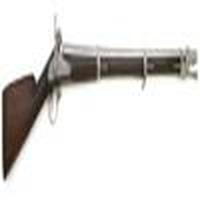gun: (3, 34, 195, 179)
